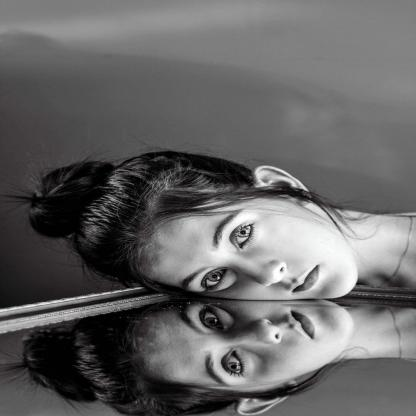Eye: (199, 304, 231, 330), (230, 221, 257, 249), (221, 349, 247, 378), (201, 267, 229, 291)
Mouth: (285, 308, 315, 339), (290, 264, 319, 292)
Nose: (230, 256, 286, 286), (232, 319, 282, 348)
